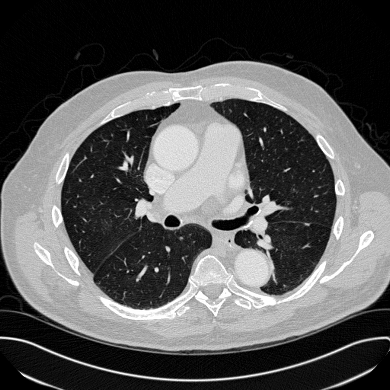nodule: (305, 222, 309, 226)
